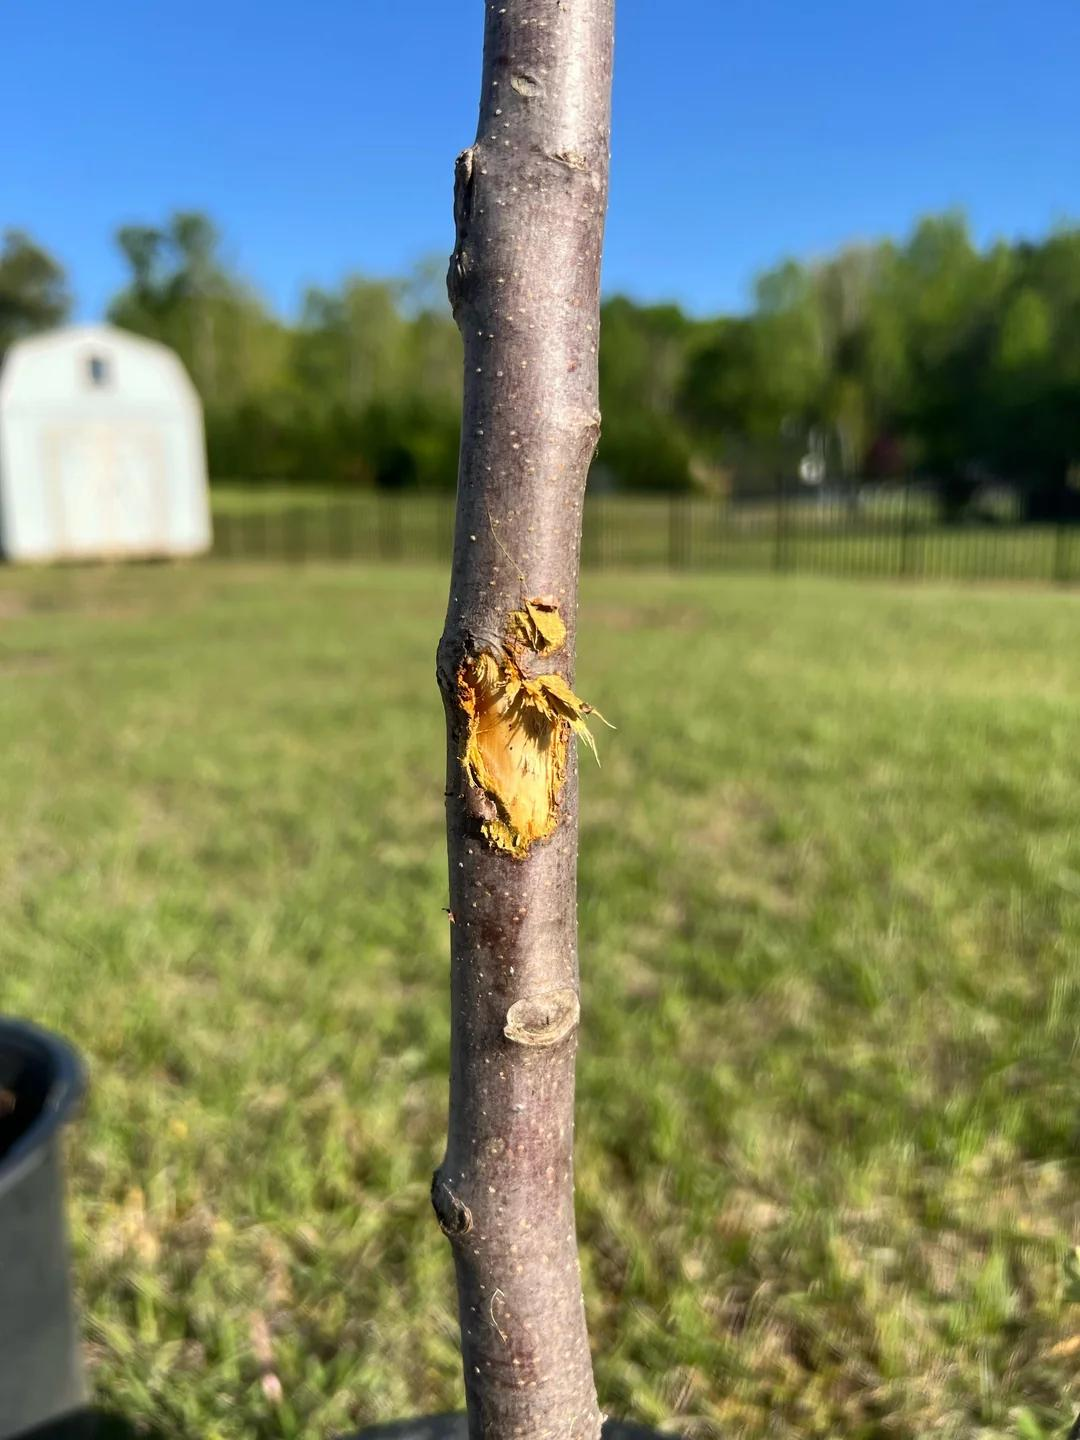mechanical damage: (457, 594, 606, 859)
